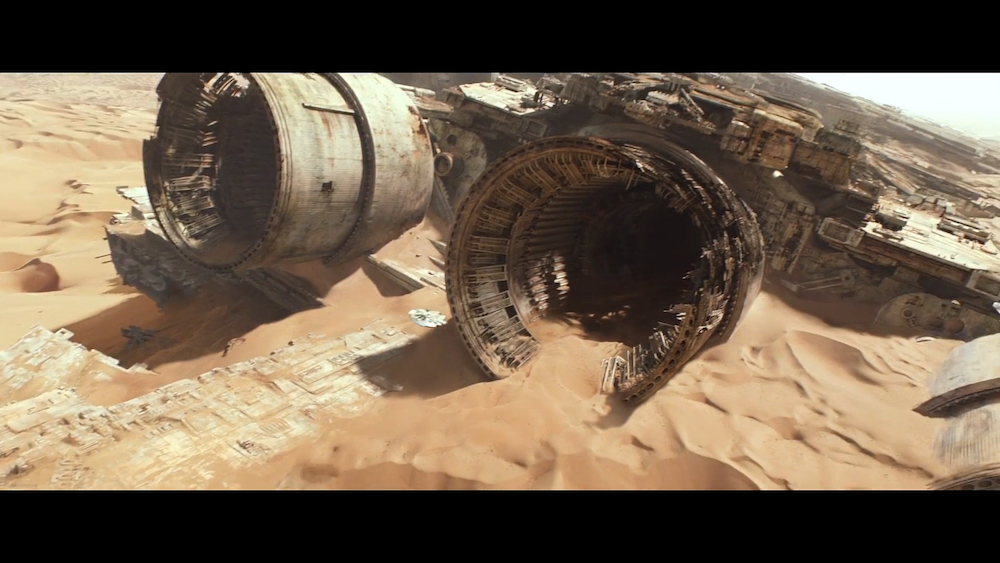Millennium Falcon: (409, 309, 448, 329)
